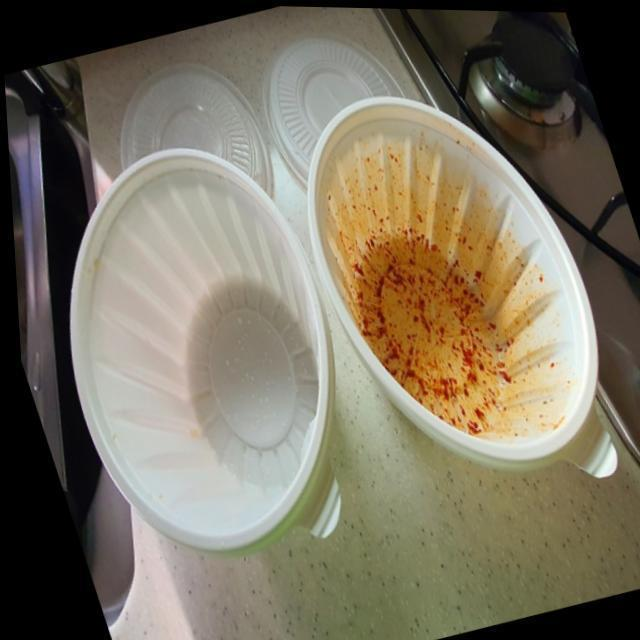disposable: (249, 57, 640, 491), (40, 142, 361, 568)
